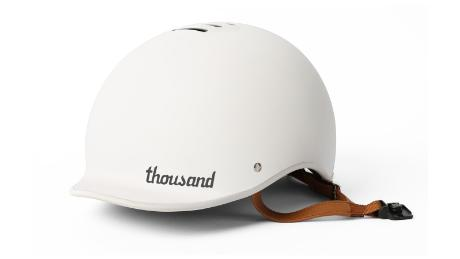with_helmet: (65, 19, 350, 216)
